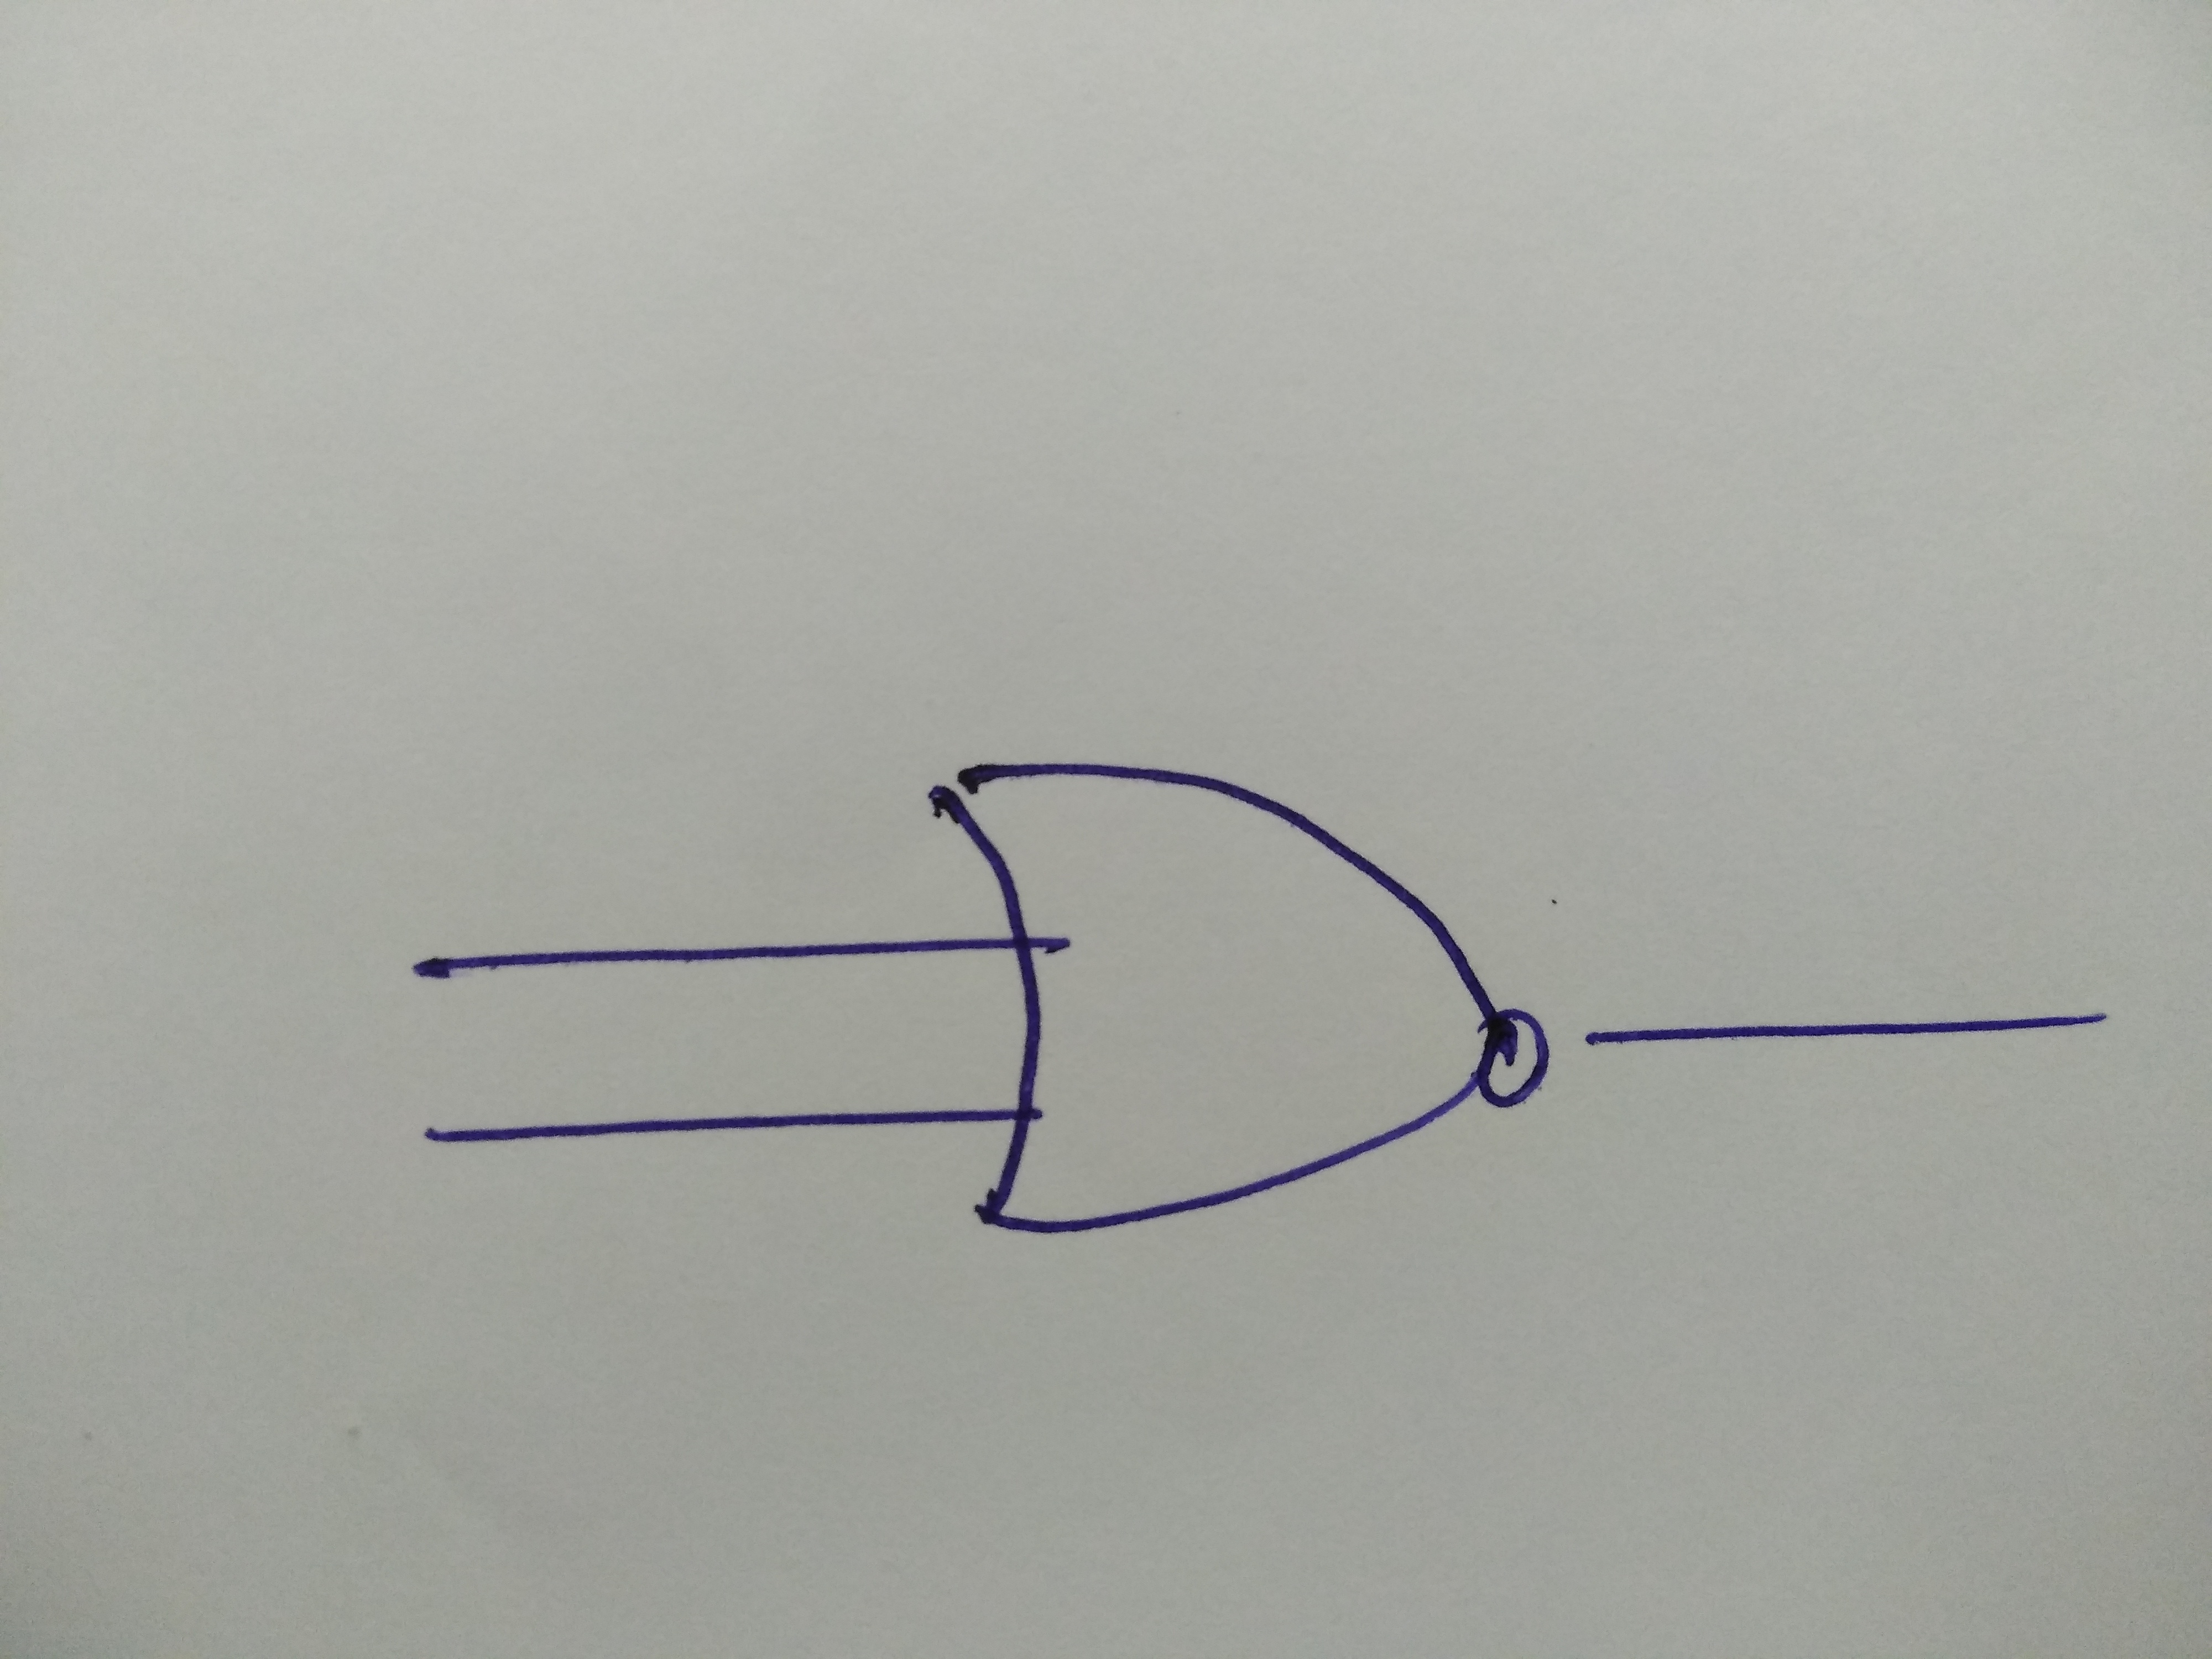nor: (833, 685, 1634, 1307)
